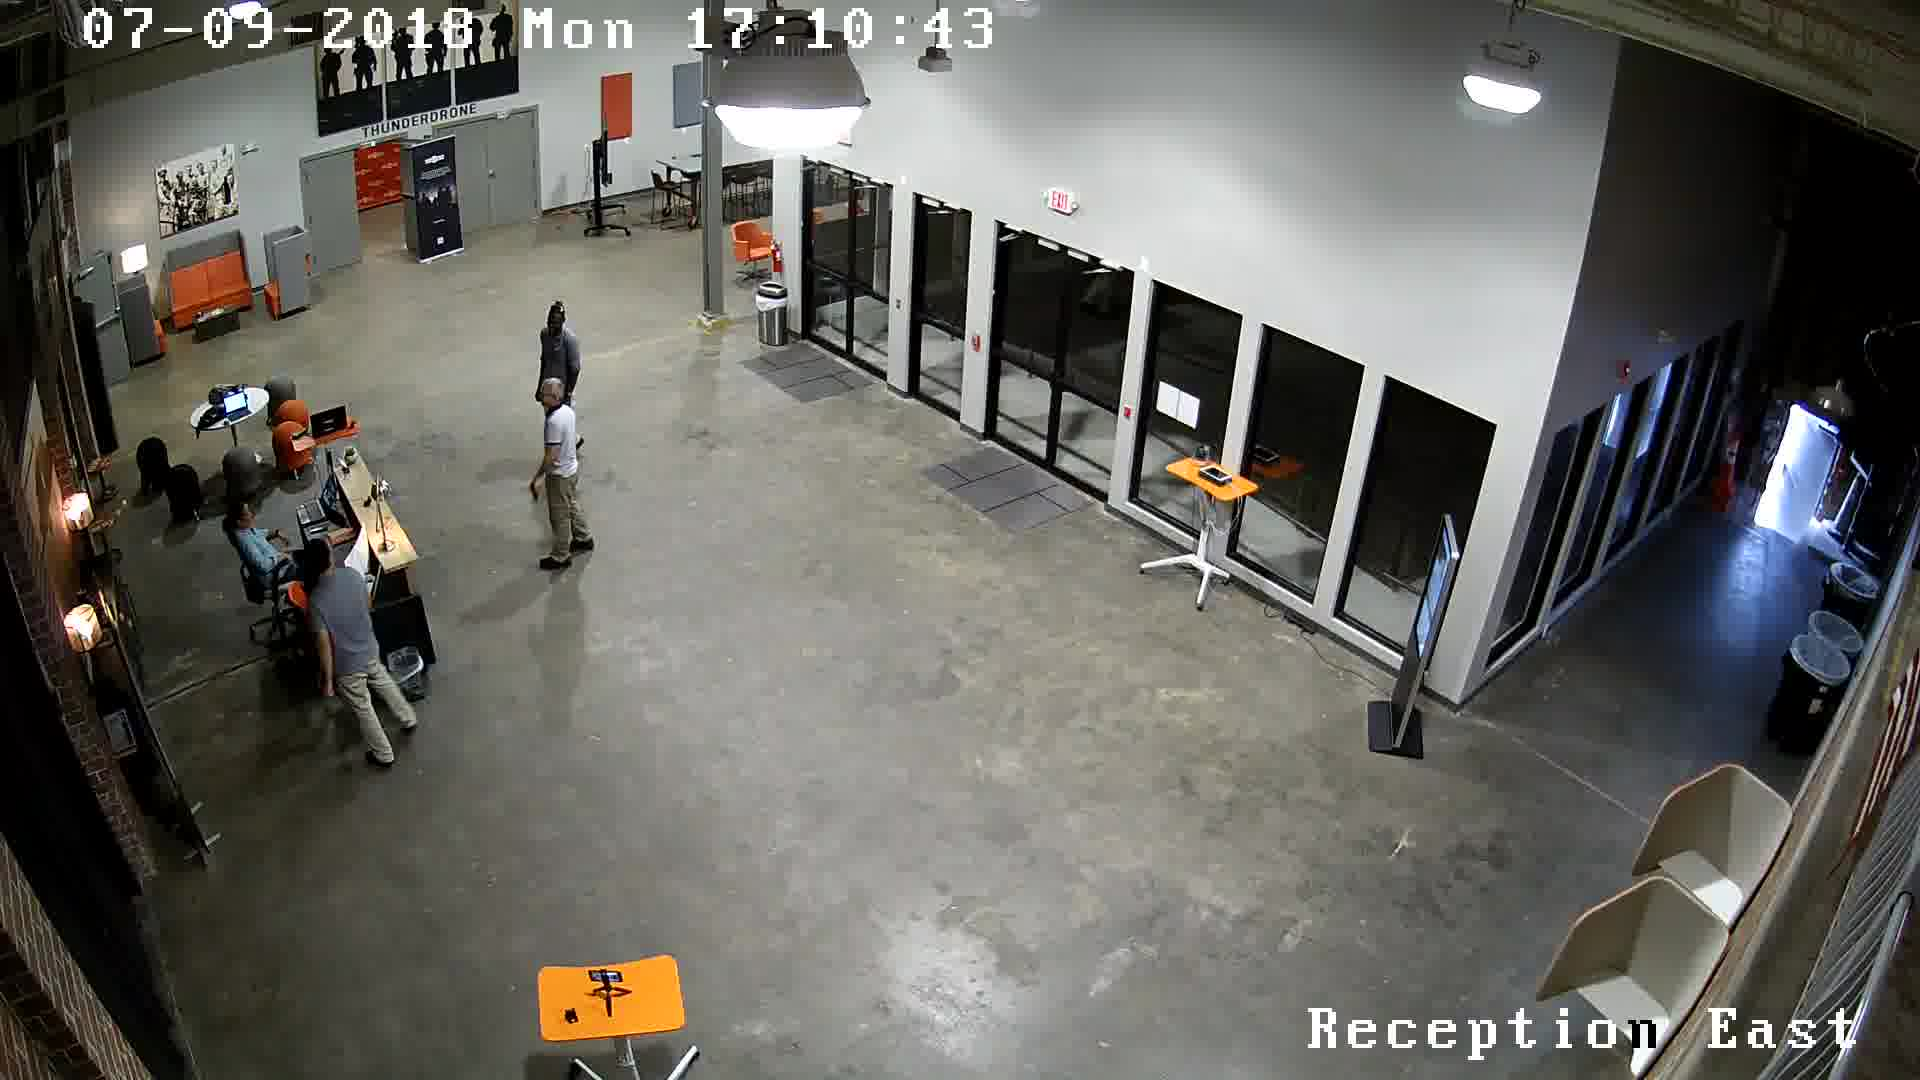pistol: (512, 468, 547, 521)
